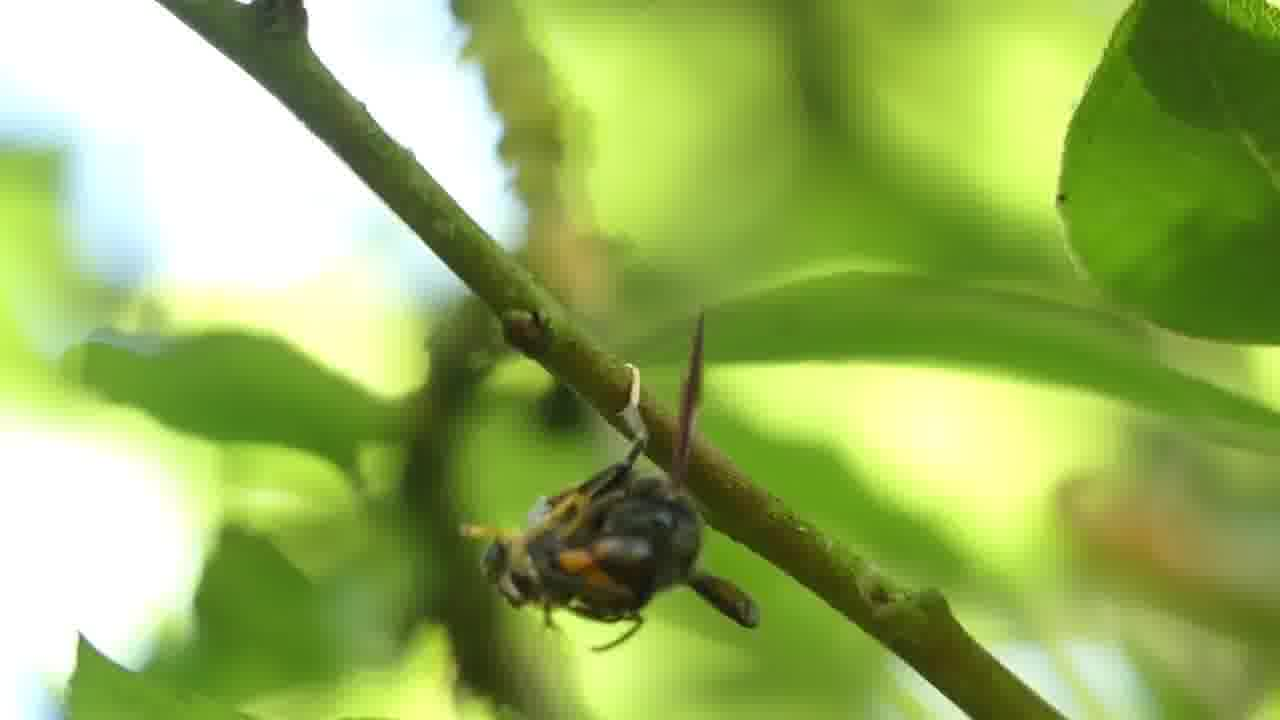hornet: (442, 404, 791, 646)
